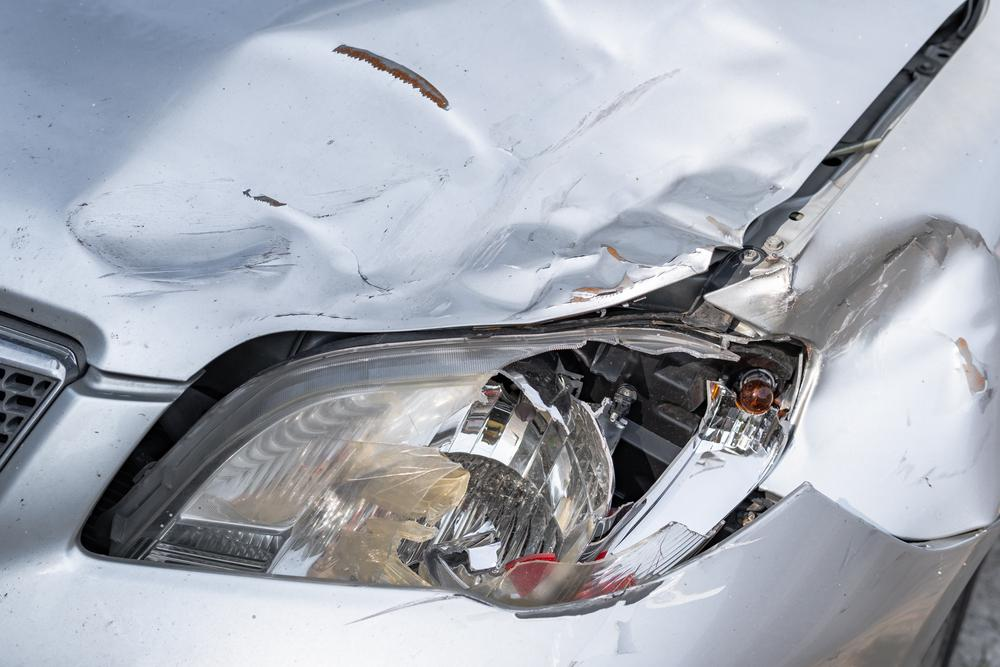dent: (71, 0, 816, 338), (778, 219, 1000, 537)
lamp broken: (98, 326, 811, 605)
scratch: (346, 578, 675, 624)
